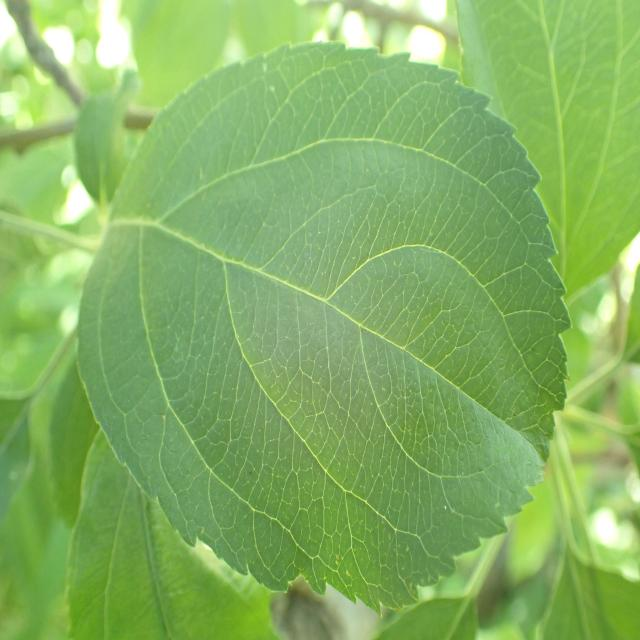healthy: (75, 39, 572, 615), (453, 0, 640, 301), (65, 426, 281, 640)
